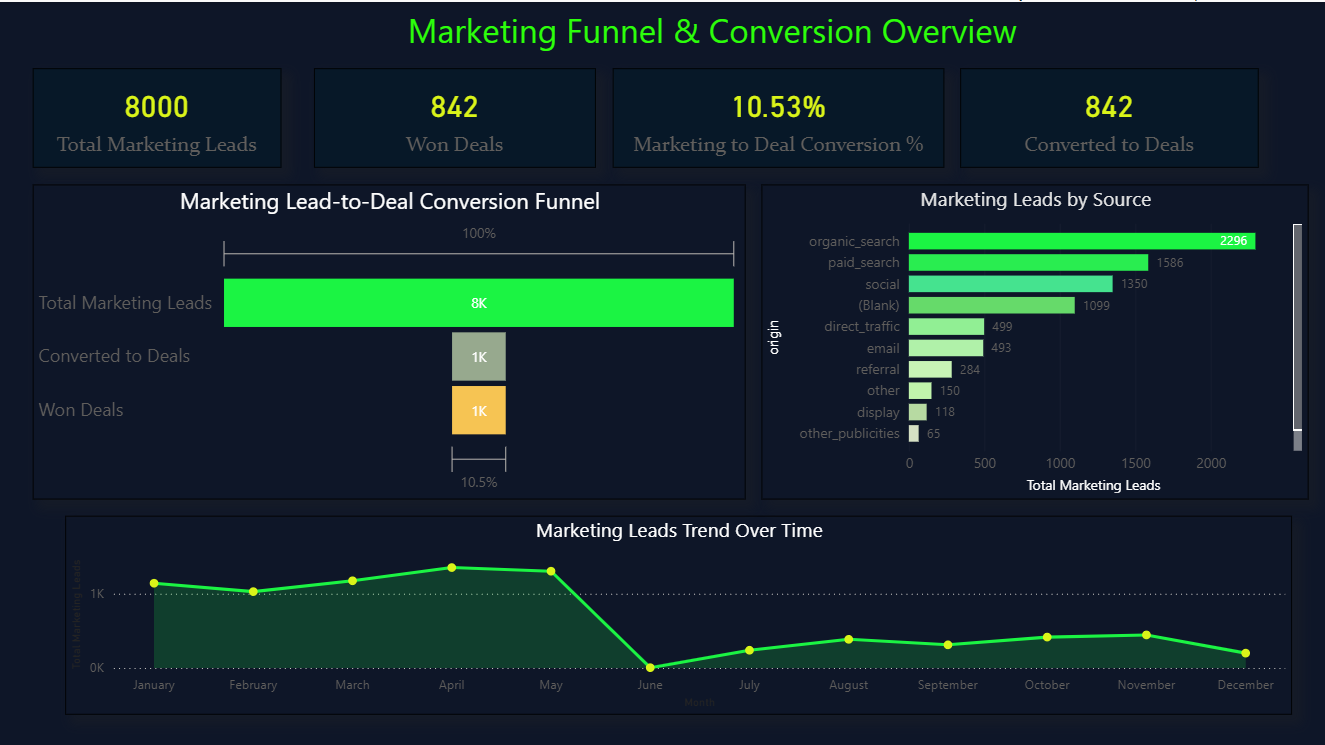

This screenshot's page, from the dashboard's own definition file:
{"tool":"powerbi","page":{"name":"Marketing Funnel & Conversion Overview","canvas":[1280,720],"ordinal":0},"visuals":[{"type":"textbox","box":[352,0,672,64],"z":0},{"type":"card","fields":{"Values":["cleaned_data.Total Marketing Leads"]},"box":[32,64,240,96],"z":1000},{"type":"card","fields":{"Values":["cleaned_data.Marketing to Deal Conversion %"]},"box":[592,64,320,96],"z":2000},{"type":"card","fields":{"Values":["cleaned_data.Converted to Deals"]},"box":[928,64,288,96],"z":3000},{"type":"card","fields":{"Values":["cleaned_data.Won Deals"]},"box":[304,64,272,96],"z":4000},{"type":"areaChart","title":"Marketing Leads Trend Over Time","fields":{"Category":["marketing_leads.first_contact_date.Variation.Date Hierarchy.Month"],"Y":["cleaned_data.Total Marketing Leads"]},"box":[64,496,1184,192],"z":5000},{"type":"funnel","title":"Marketing Lead-to-Deal Conversion Funnel","fields":{"Y":["cleaned_data.Total Marketing Leads","cleaned_data.Converted to Deals","cleaned_data.Won Deals"]},"box":[32,176,688,304],"z":7000},{"type":"barChart","title":"Marketing Leads by Source","fields":{"Category":["marketing_leads.origin"],"Y":["cleaned_data.Total Marketing Leads"]},"box":[736,176,528,304],"z":8000}]}

Visuals, with their boxes in screenshot pixels (x1, y1, x2, y2), scaled from the page's 1280x720 canvas onto the 1325x745 screenshot:
textbox: {"left": 364, "top": 0, "right": 1060, "bottom": 66}
card - cleaned_data.Total Marketing Leads: {"left": 33, "top": 66, "right": 282, "bottom": 166}
card - cleaned_data.Marketing to Deal Conversion %: {"left": 613, "top": 66, "right": 944, "bottom": 166}
card - cleaned_data.Converted to Deals: {"left": 961, "top": 66, "right": 1259, "bottom": 166}
card - cleaned_data.Won Deals: {"left": 315, "top": 66, "right": 596, "bottom": 166}
"Marketing Leads Trend Over Time" areaChart: {"left": 66, "top": 513, "right": 1292, "bottom": 712}
"Marketing Lead-to-Deal Conversion Funnel" funnel: {"left": 33, "top": 182, "right": 745, "bottom": 497}
"Marketing Leads by Source" barChart: {"left": 762, "top": 182, "right": 1308, "bottom": 497}
